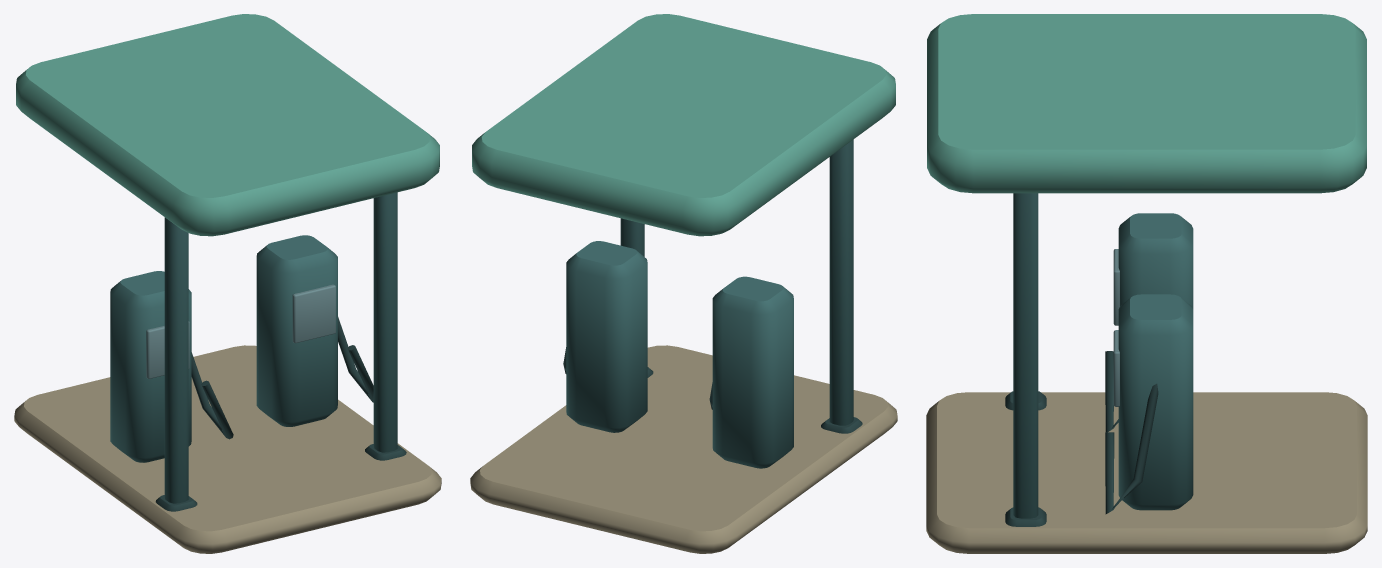
File: annex_charge_3.glb
3 views of the same model, side by side, from view 1: azimuth 30°, elevation 25°; view 2: azimuth 150°, elevation 25°; view 3: azimuth 270°, elevation 25° (orthographic). The views are drawn at different scales.
Visible parts, largest first — view 1: AnnexCharge3; view 2: AnnexCharge3; view 3: AnnexCharge3.
Boxes of the visible parts, left/top/right/bottom form: AnnexCharge3: left=14, top=14, right=441, bottom=553; AnnexCharge3: left=470, top=14, right=897, bottom=553; AnnexCharge3: left=926, top=14, right=1367, bottom=553.
Bounding box in the file's own units: 1.96 × 2.51 × 2.48.
